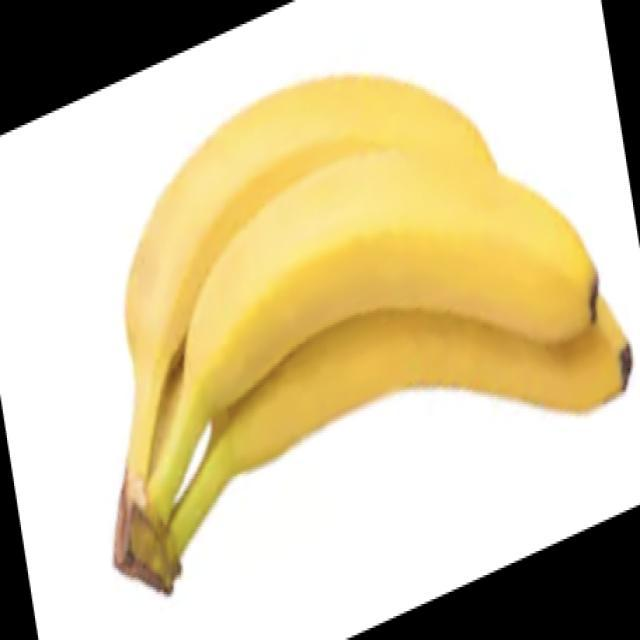Banana: (112, 71, 632, 595)
